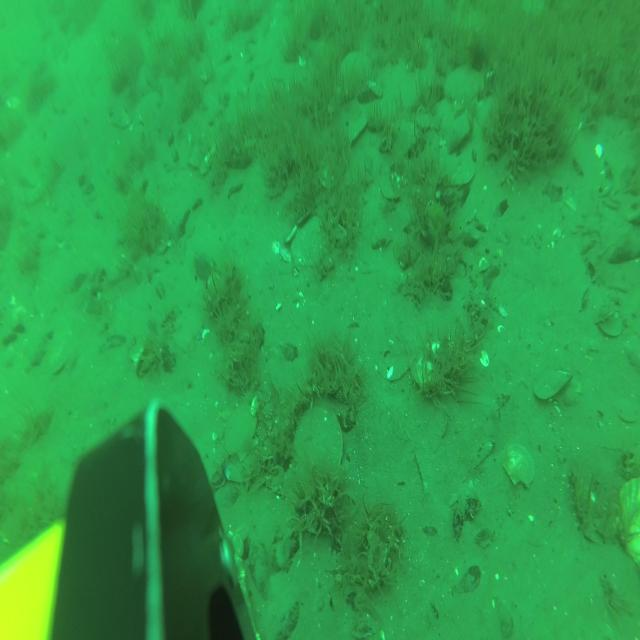scallop: (293, 403, 343, 488), (614, 461, 640, 574), (222, 399, 261, 464), (289, 210, 328, 272), (444, 61, 486, 116), (338, 49, 374, 99), (503, 441, 537, 489), (132, 88, 161, 130)
